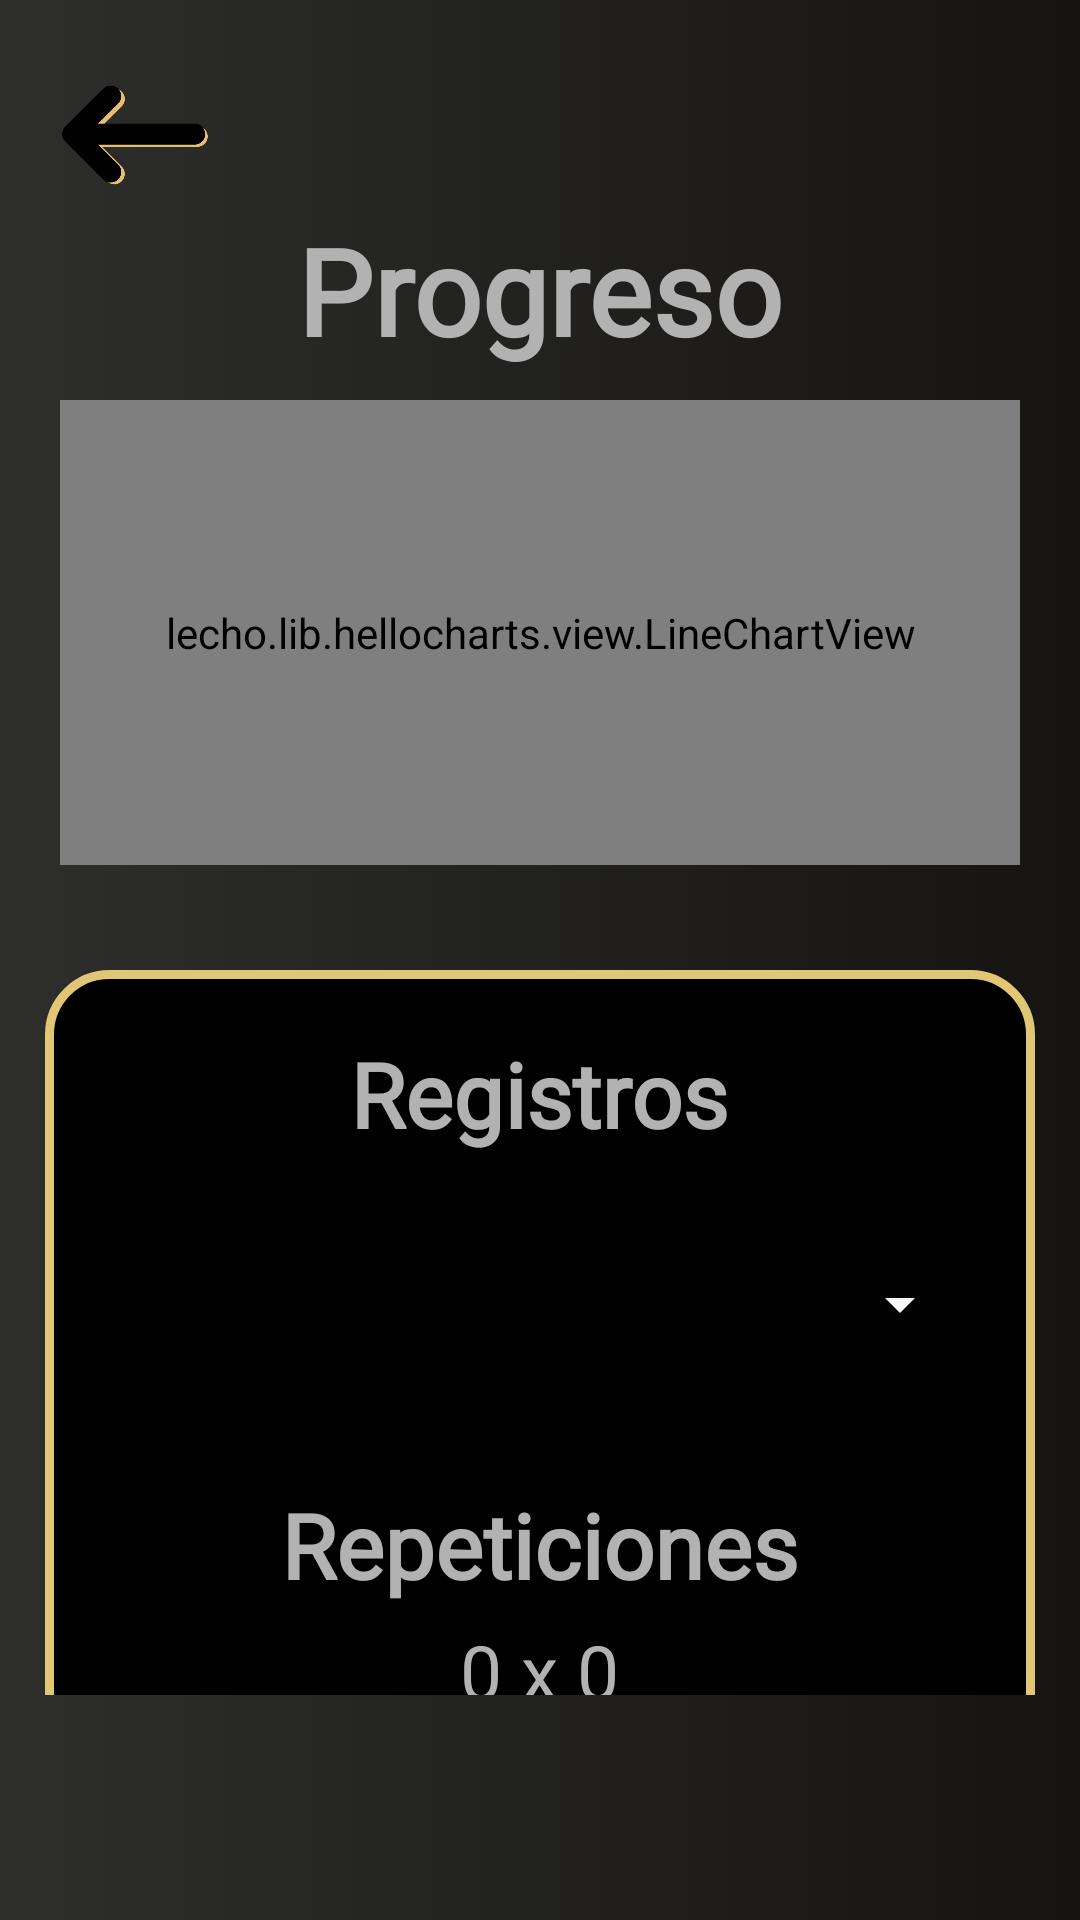

Icons on this 1080px×1920px Android screen, each with its box as bbox=[x1, y1, x2, y2]:
flechanegrodorado: bbox=[62, 86, 208, 185]
